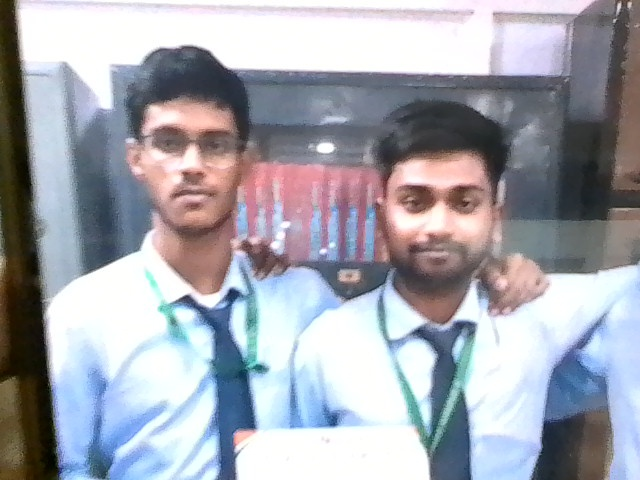real: (126, 60, 250, 236)
